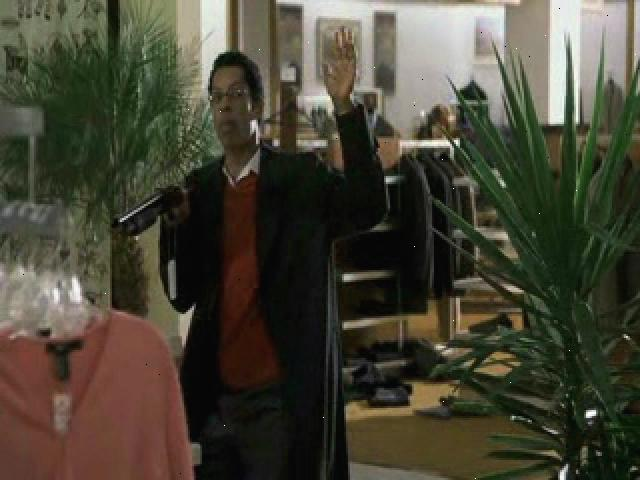L: (117, 20, 389, 480)
